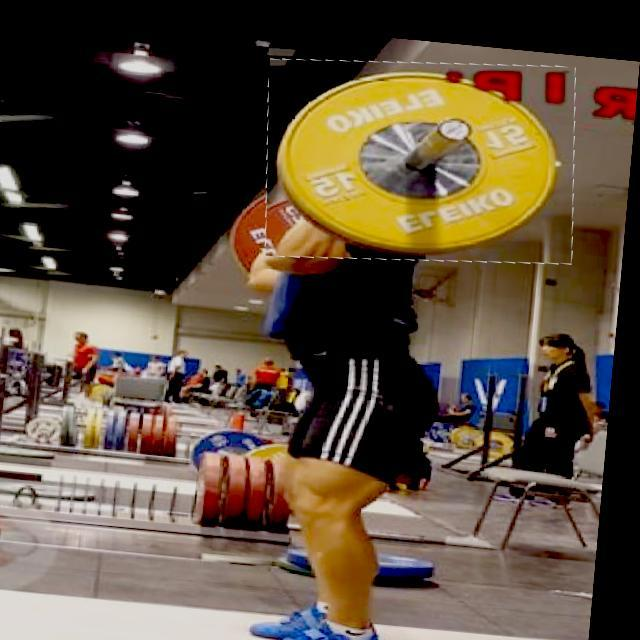barbell: (262, 39, 587, 268)
